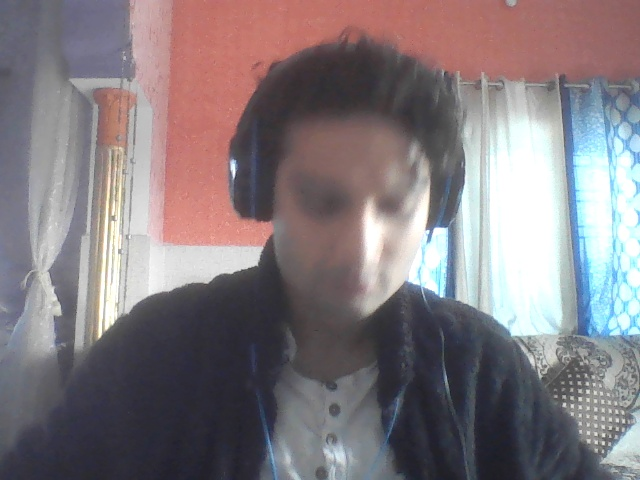real: (238, 44, 454, 350)
